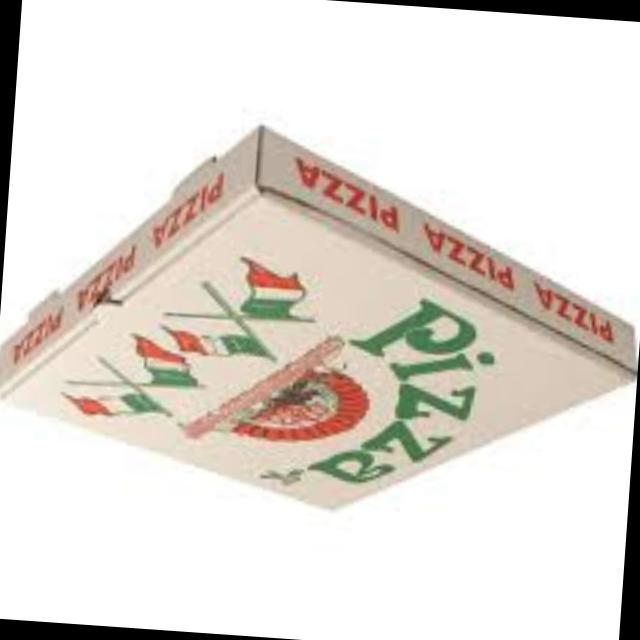cardboard paper: (0, 134, 638, 510)
